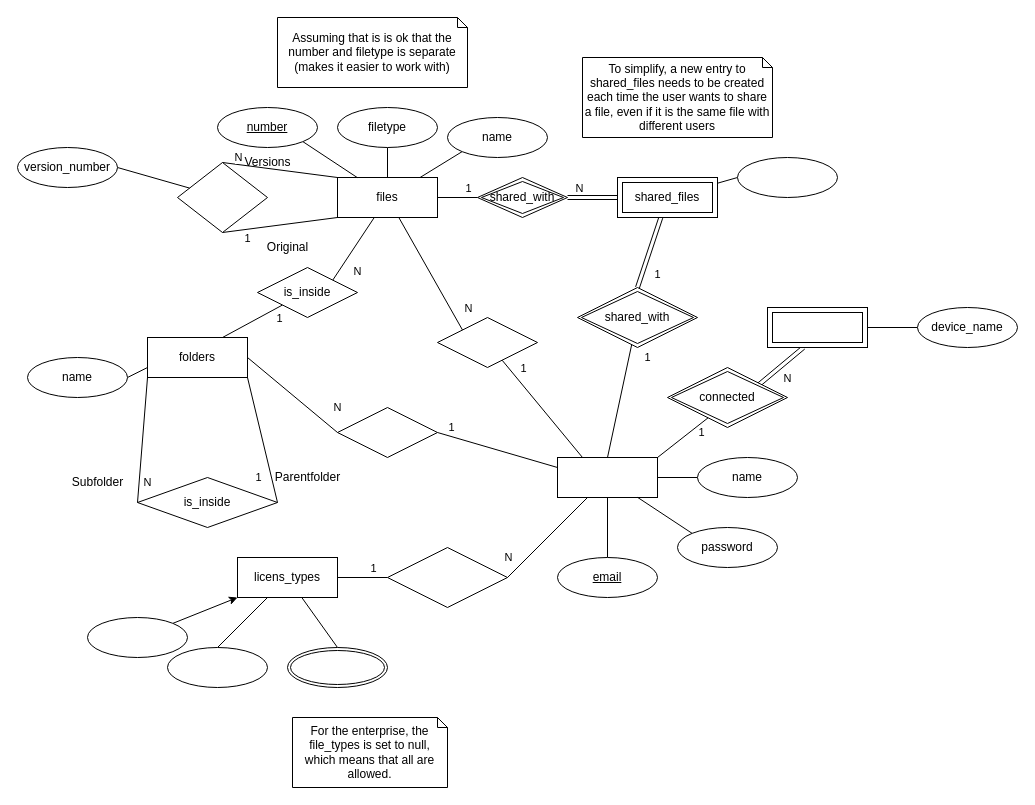
Image size: 1035x805. Some labels were removed from this diagram. Each missing label, with the box of its shape:
computer: (766, 306, 868, 348)
computer_amount: (86, 616, 188, 658)
expiration_date: (736, 156, 838, 198)
file_types: (286, 646, 388, 688)
license_user: (386, 546, 508, 608)
owns: (336, 406, 438, 458)
type: (166, 646, 268, 688)
update_files: (176, 162, 268, 232)
uploads: (436, 316, 538, 368)
users: (556, 456, 658, 498)
